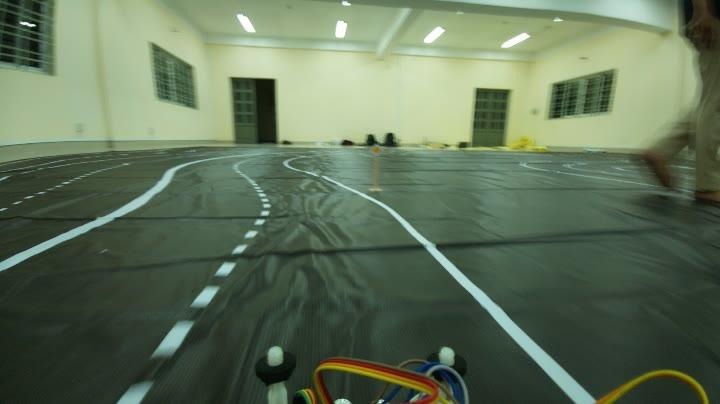priority: (369, 142, 382, 158)
